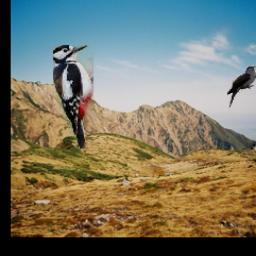Cuckoo: (227, 65, 256, 108)
Woodpecker: (53, 45, 93, 149)
